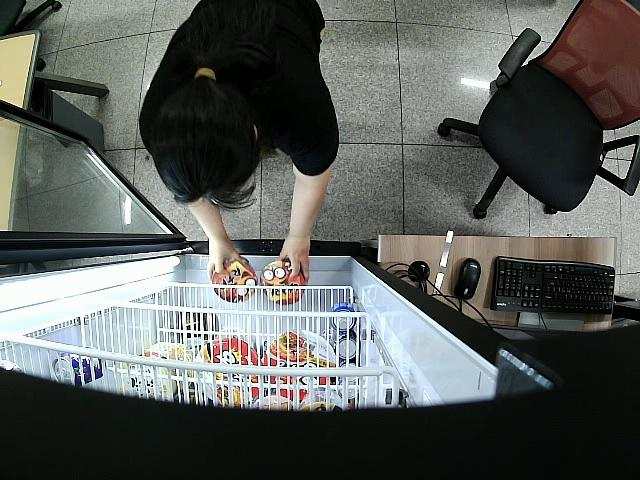00_hand: (207, 243, 247, 280), (279, 237, 311, 281)
05_nuguri_L: (211, 258, 255, 304), (261, 262, 305, 306)
